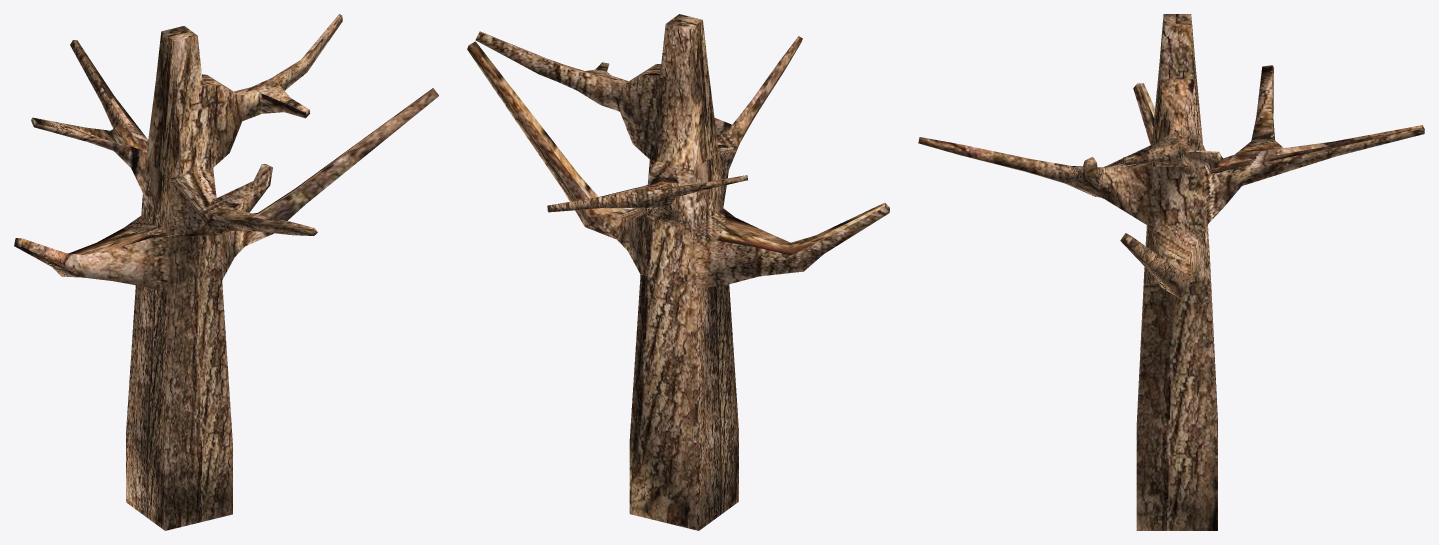
Rendered from tree_improved.obj.
3 views of the same model, side by side, from view 1: azimuth 30°, elevation 25°; view 2: azimuth 150°, elevation 25°; view 3: azimuth 270°, elevation 25° (orthographic). The views are drawn at different scales.
Parts seen in each view (by area): view 1: Cube; view 2: Cube; view 3: Cube.
Part boxes in pixels (box(x1,y1,x2,y2)): Cube: box(14, 14, 438, 530); Cube: box(467, 14, 889, 530); Cube: box(918, 14, 1424, 530).
Bounding box in the file's own units: 6.83 × 7.4 × 6.88.
